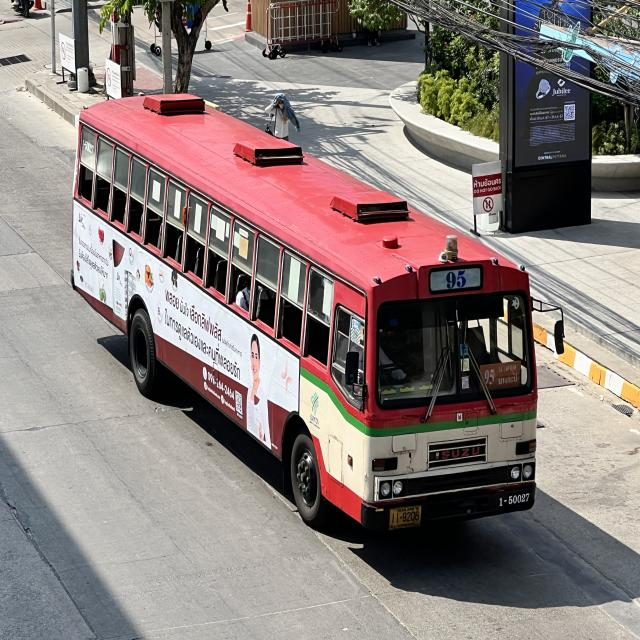BMTA-bus: (70, 92, 540, 536)
Bus-Line-Number: (425, 262, 485, 298)
Destination-Sign-Normal: (477, 361, 522, 391)
